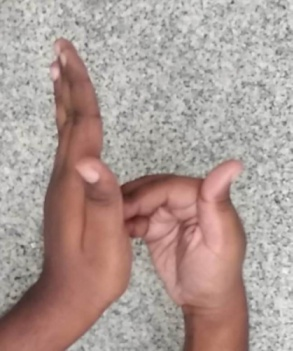ga: (34, 32, 246, 326)
